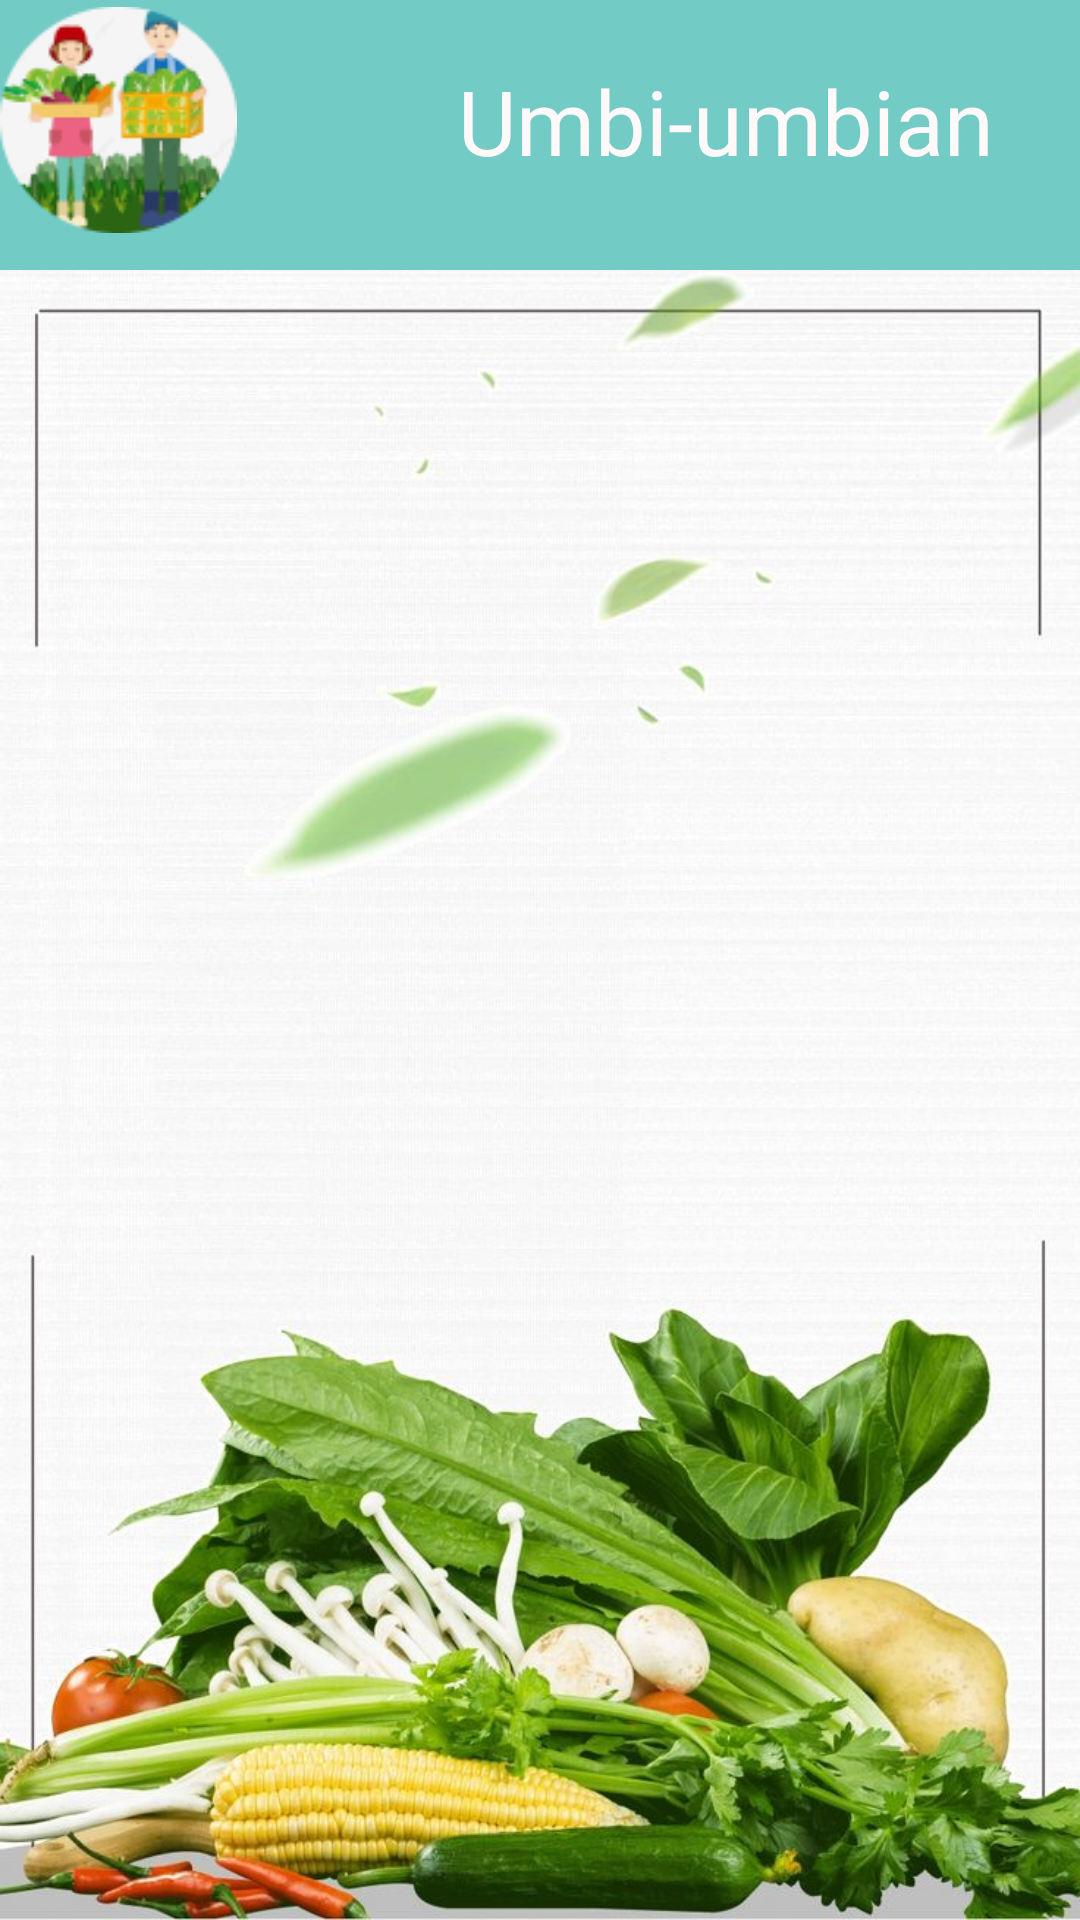

Named icons in this screenshot (1080px×1920px) and their bounding boxes, [x1, y1, x2, y2]:
tani: [0, 7, 237, 233]
